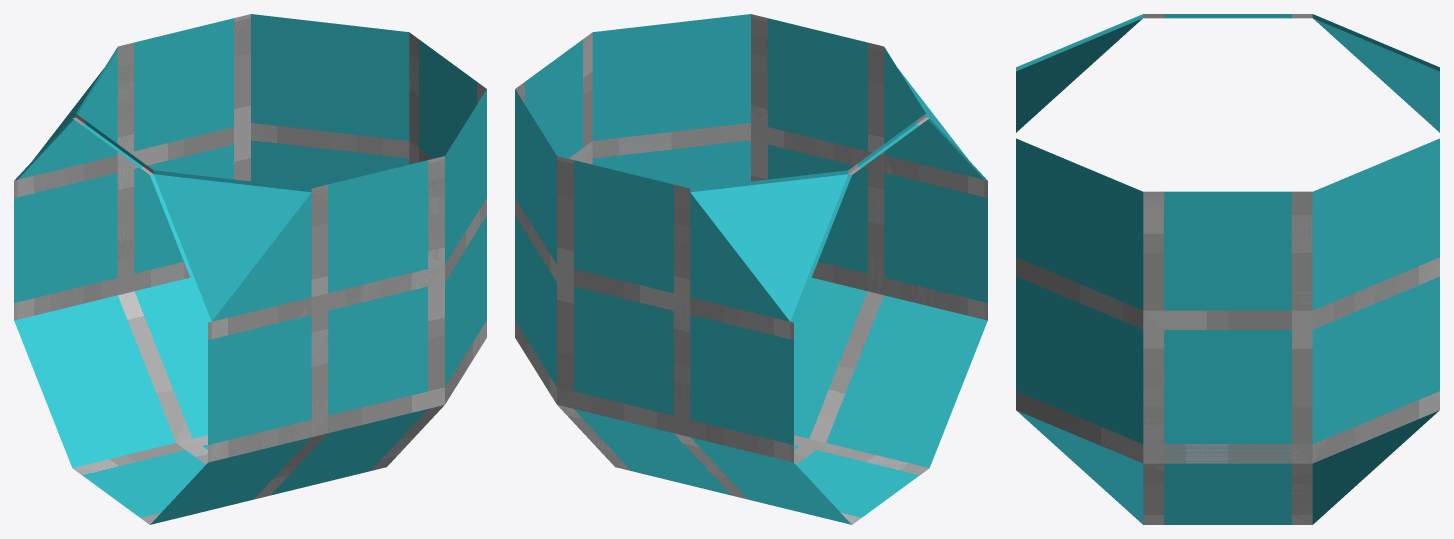
The model's file is viaduct_connected_corner.obj.
3 views of the same model, side by side, from view 1: azimuth 30°, elevation 25°; view 2: azimuth 150°, elevation 25°; view 3: azimuth 270°, elevation 25° (orthographic). The views are drawn at different scales.
Parts seen in each view (by area): view 1: Cube; view 2: Cube; view 3: Cube.
Boxes of the visible parts, x1,y1,x2,y2 form: Cube: (14,14,486,524); Cube: (515,14,987,524); Cube: (1016,14,1439,524).
Size of the model in its own units: 0.9937 by 0.9969 by 0.9906.
